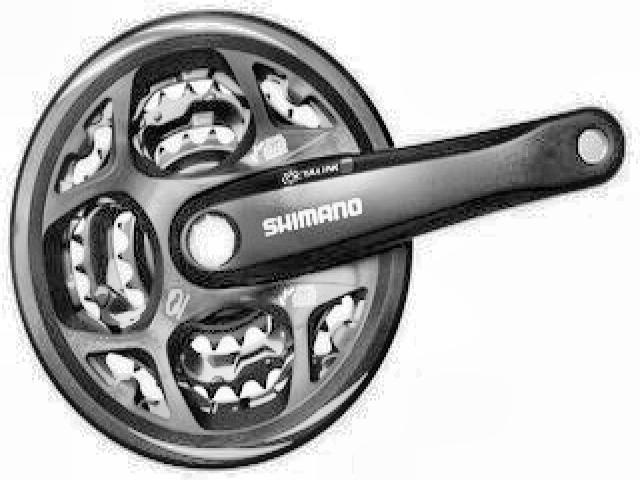cranks_set: (3, 4, 627, 472)
